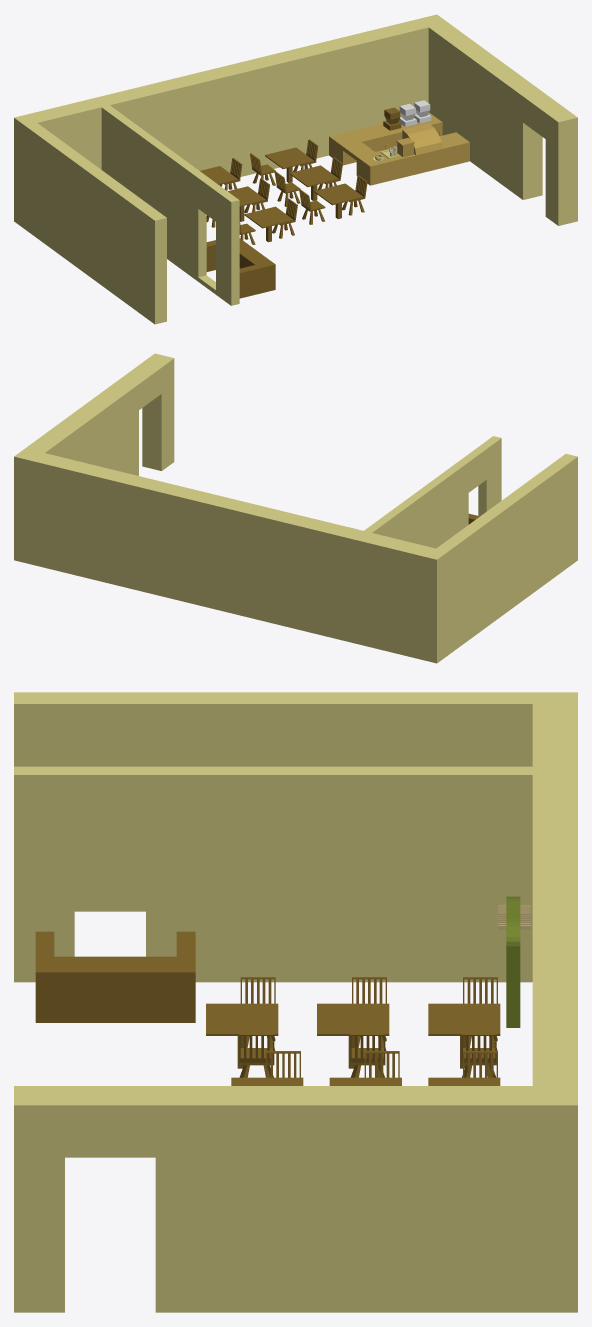
The model's file is Cafe.fbx.
3 views of the same model, one above another, from view 1: azimuth 30°, elevation 25°; view 2: azimuth 150°, elevation 25°; view 3: azimuth 270°, elevation 25° (orthographic). The views are drawn at different scales.
Parts seen in each view (by area): view 1: Cube.001, Cube.002, Cube.004, Plane.002, Plane.005, Plane.001, Plane.008, Plane.007, Cube.012, Cube.005, Plane.006; view 2: Cube.001; view 3: Cube.001, Cube.004, Plane.008, Plane.007, Plane.006, Plane.024, Cube.021, Cube.019, Cube.017.
Part boxes in pixels (x1,y1,x2,y2): Cube.001: (14, 14, 577, 324); Cube.002: (329, 112, 469, 185); Cube.004: (206, 238, 275, 298); Plane.002: (314, 183, 363, 218); Plane.005: (265, 147, 314, 182); Plane.001: (289, 165, 338, 200); Plane.008: (244, 206, 293, 242); Plane.007: (228, 186, 265, 221); Cube.012: (274, 171, 300, 206); Cube.005: (299, 189, 325, 224); Plane.006: (200, 166, 238, 184); Cube.001: (14, 353, 577, 663); Cube.001: (14, 692, 577, 1312); Cube.004: (35, 931, 195, 1022); Plane.008: (206, 1003, 278, 1068); Plane.007: (317, 1003, 389, 1068); Plane.006: (428, 1003, 500, 1068); Plane.024: (506, 896, 520, 1027); Cube.021: (239, 1033, 274, 1077); Cube.019: (350, 1033, 385, 1077); Cube.017: (461, 1033, 496, 1077).
Size of the model in its own units: 1494 by 350 by 862.
